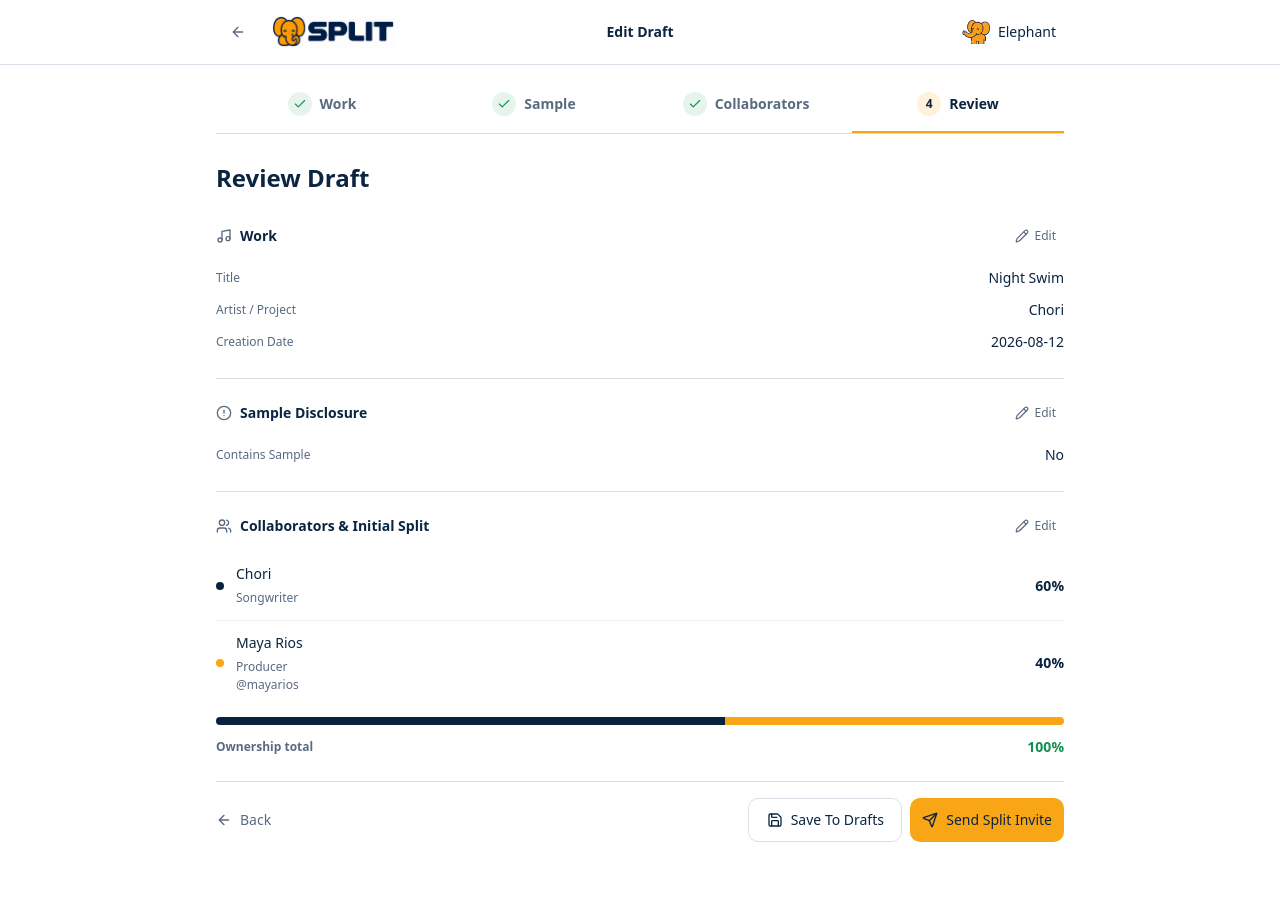
Scenario: split creation completion › does not claim invitations were sent when only a local save was returned
Click the button "Send Split Invite" at (987,820), box [910,798,1064,842]
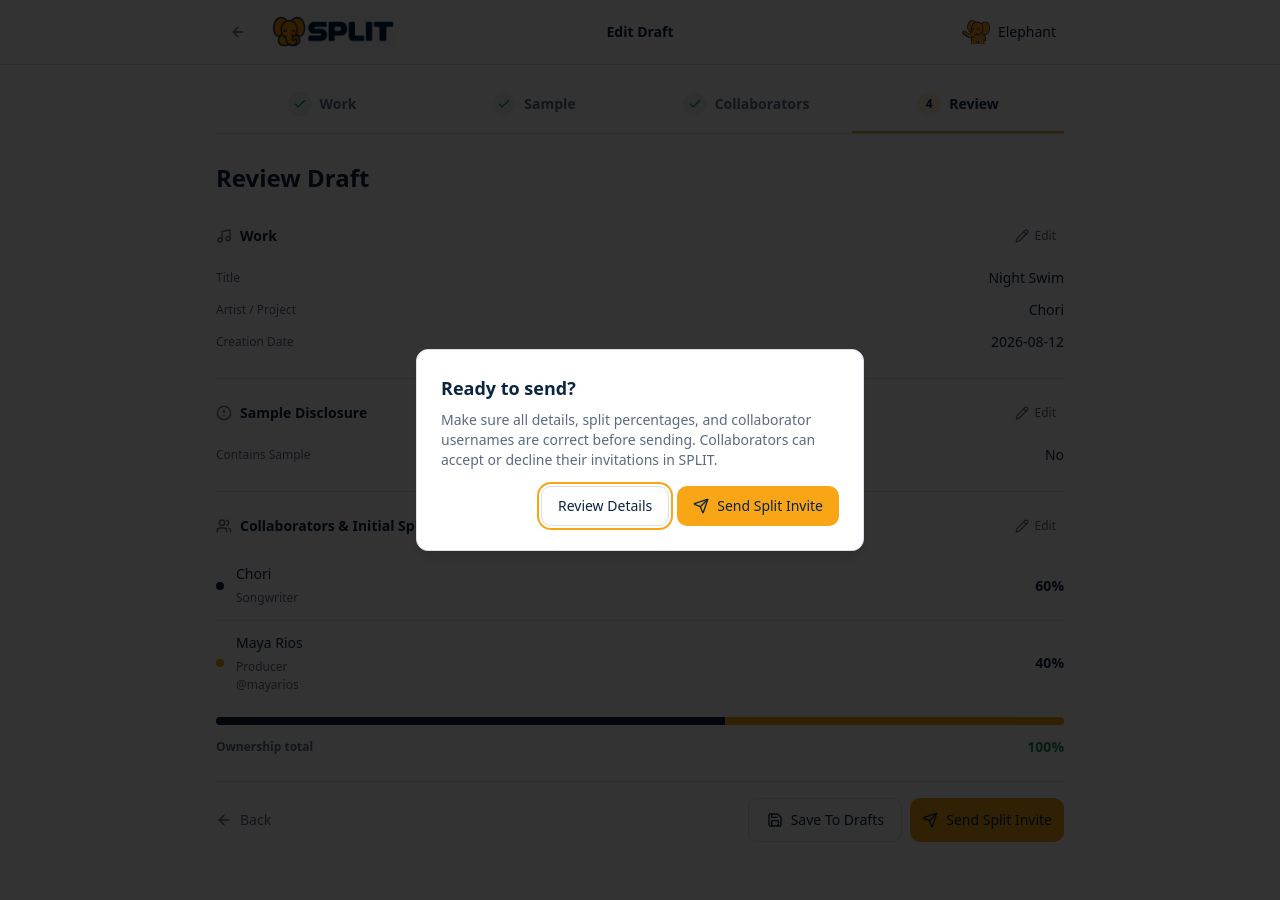
Click the button "Send Split Invite" at (758,506), box [677,486,839,526]
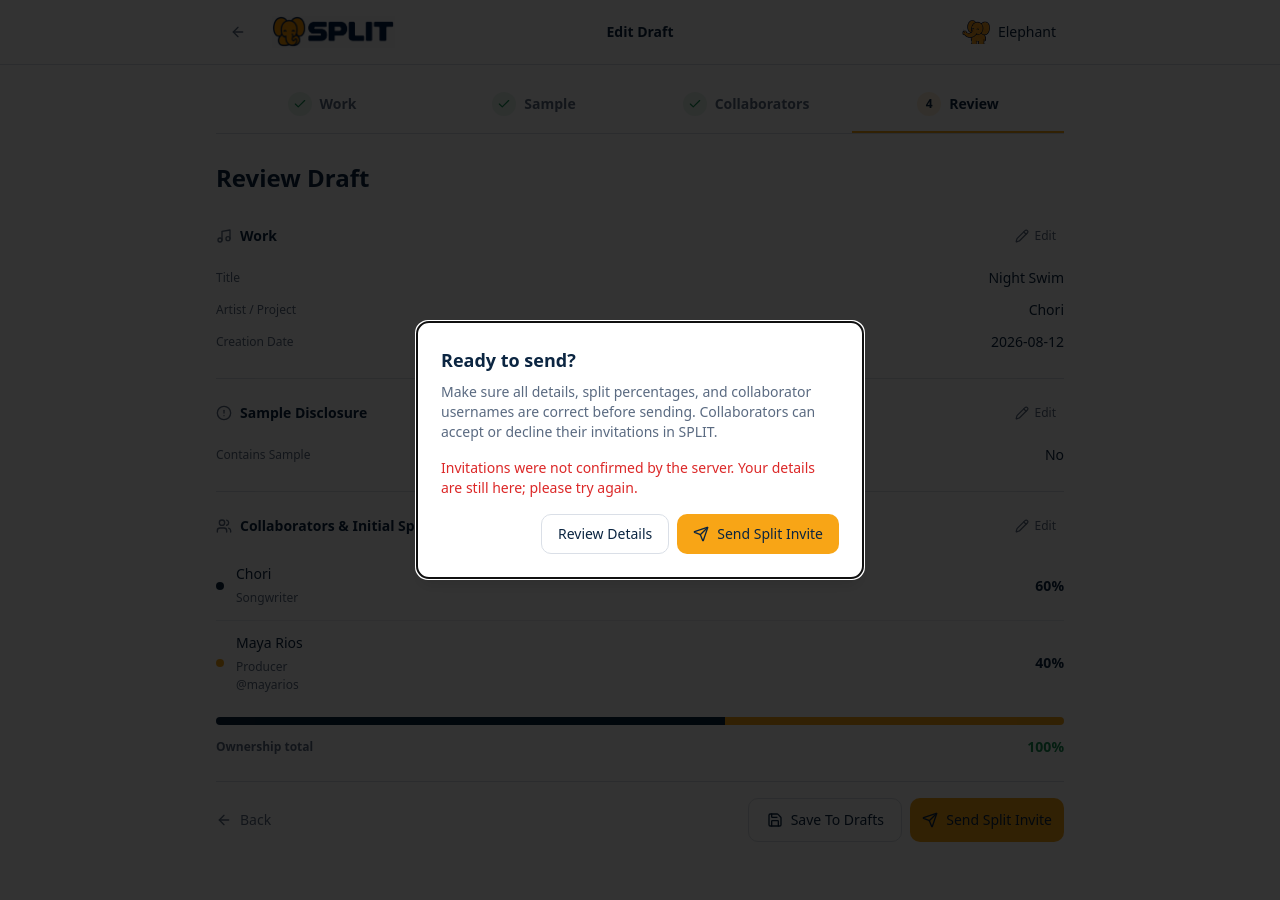
Now the message shows "not confirmed by the server", box [441,458,815,497]
